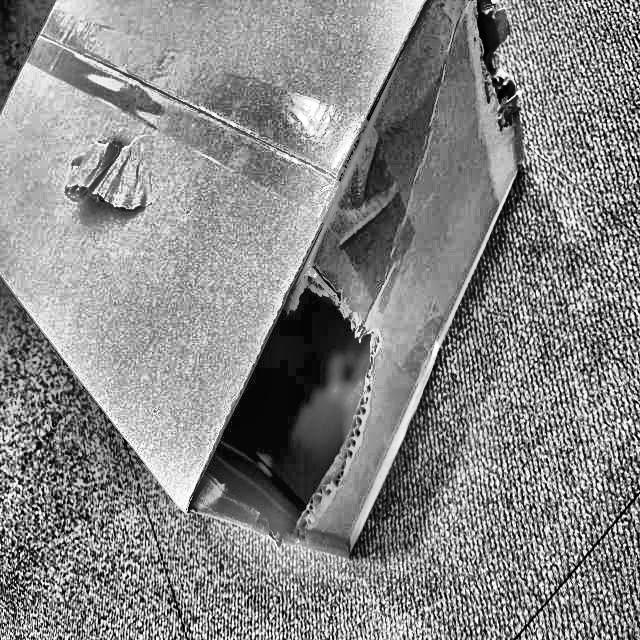box: (0, 0, 564, 581)
hole: (185, 296, 375, 544), (462, 2, 508, 110)
